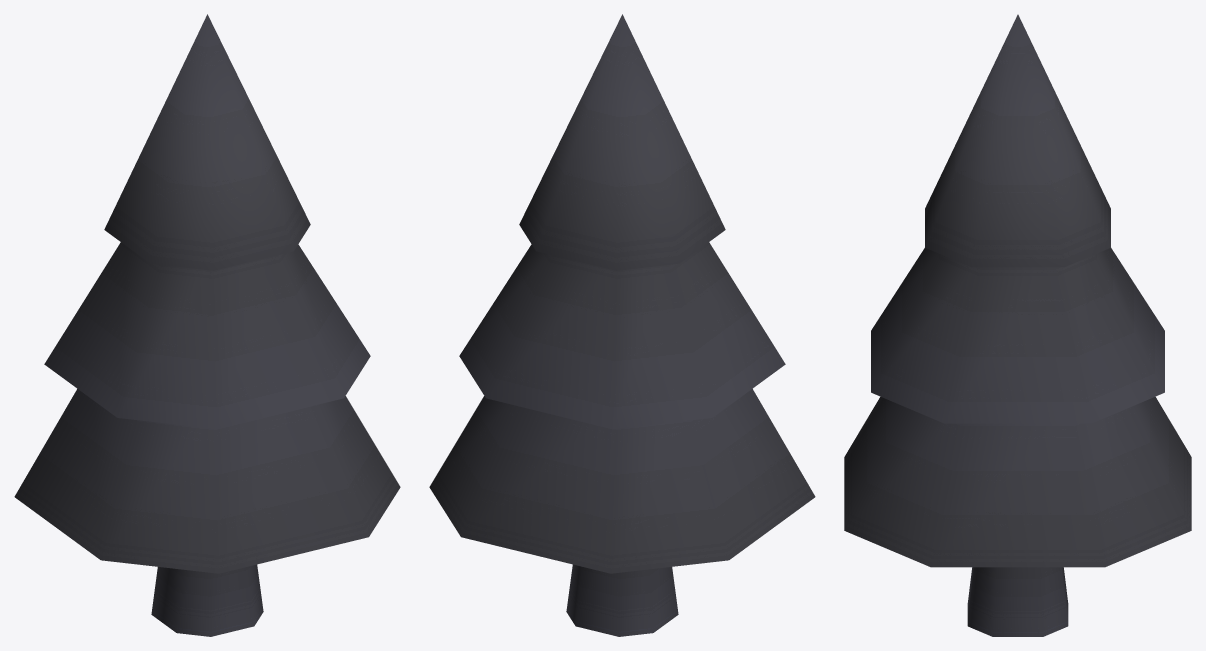
The model's file is tree-col.glb.
3 views of the same model, side by side, from view 1: azimuth 30°, elevation 25°; view 2: azimuth 150°, elevation 25°; view 3: azimuth 270°, elevation 25° (orthographic).
Parts seen in each view (by area): view 1: tree-col; view 2: tree-col; view 3: tree-col.
Boxes of the visible parts, x1,y1,x2,y2 form: tree-col: (14, 14, 400, 636); tree-col: (429, 14, 815, 636); tree-col: (844, 14, 1191, 636).
Size of the model in its own units: 0.75 by 1.43 by 0.75.
1 material, 1 textured.
